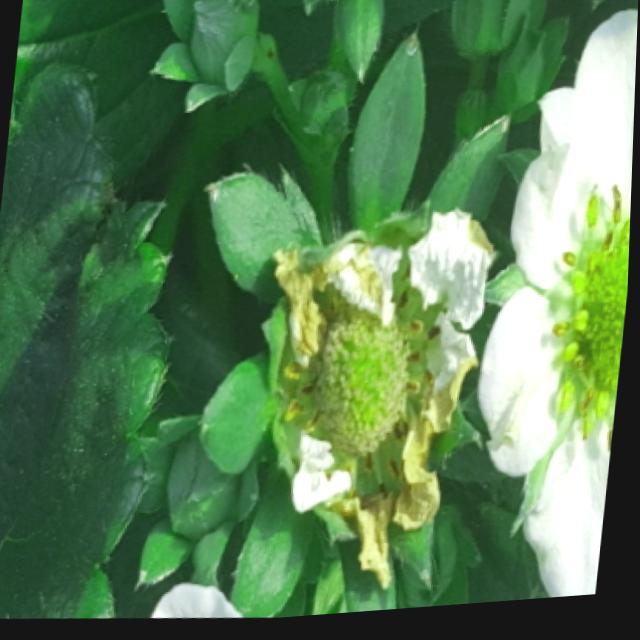Blossom Blight: (280, 268, 451, 509), (547, 187, 633, 464)
